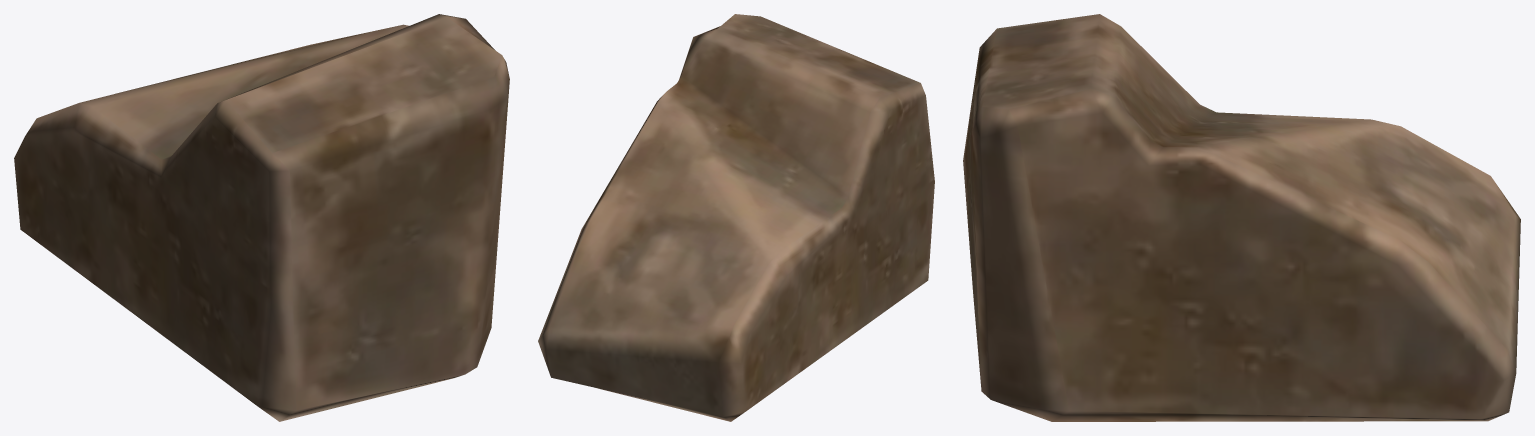
3 renders of one model, left to right at view 1: azimuth 30°, elevation 25°; view 2: azimuth 150°, elevation 25°; view 3: azimuth 270°, elevation 25°, orthographic. The views are drawn at different scales.
Parts seen in each view (by area): view 1: SM_DK_Brick_01_LOD0; view 2: SM_DK_Brick_01_LOD0; view 3: SM_DK_Brick_01_LOD0.
Part boxes in pixels (x1,y1,x2,y2): SM_DK_Brick_01_LOD0: (14,14,509,421); SM_DK_Brick_01_LOD0: (538,14,934,421); SM_DK_Brick_01_LOD0: (963,14,1520,421).
Bounding box in the file's own units: 0.7837 × 0.9057 × 1.38.
1 material, 1 textured.
